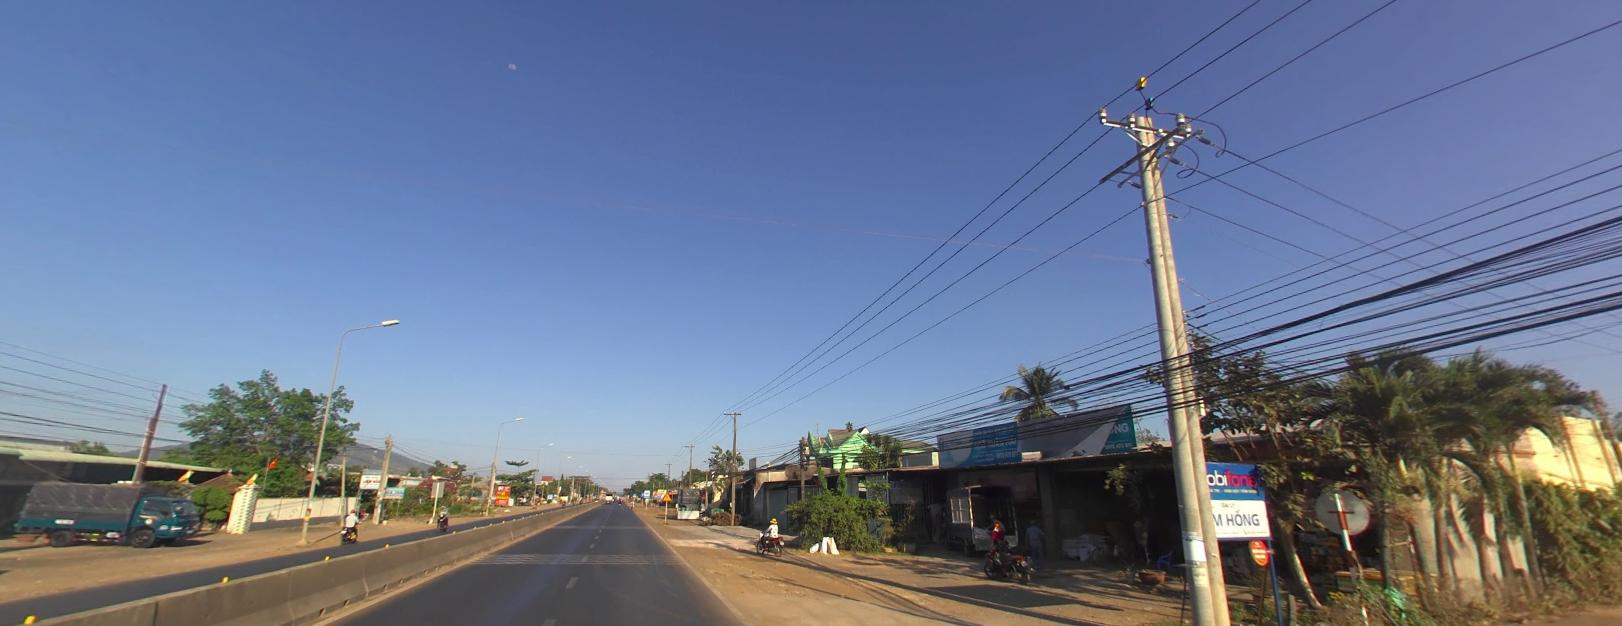Nguy hiem: (662, 491, 671, 499)
